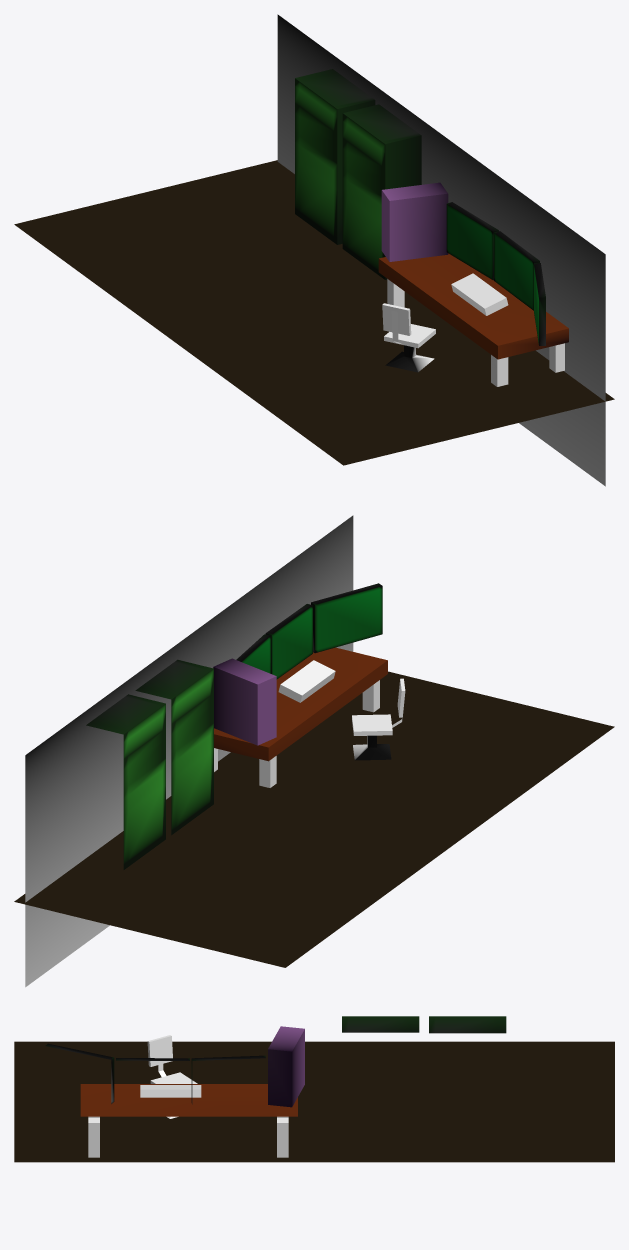
Rendered from ServerRoom.glb.
3 renders of one model, top to bottom at view 1: azimuth 30°, elevation 25°; view 2: azimuth 150°, elevation 25°; view 3: azimuth 270°, elevation 25°, orthographic. The views are drawn at different scales.
Parts seen in each view (by area): view 1: Cube, Plane, Cube.001, Cube.006, Cube.002, Cube.011, Cube.008, Cube.003, Cube.012, Cube.005, Cube.004; view 2: Cube, Plane, Cube.002, Cube.006, Cube.001, Cube.011, Cube.004, Cube.003, Cube.012, Cube.005, Cube.008; view 3: Cube, Cube.001, Cube.011, Cube.002, Cube.006, Cube.012, Cube.005, Cube.004, Cube.008.
Boxes of the visible parts, x1=… form: Cube: x1=14, y1=160, x2=614, y2=465; Plane: x1=277, y1=14, x2=605, y2=486; Cube.001: x1=378, y1=253, x2=568, y2=386; Cube.006: x1=342, y1=104, x2=421, y2=279; Cube.002: x1=295, y1=69, x2=375, y2=244; Cube.011: x1=381, y1=182, x2=448, y2=261; Cube.008: x1=446, y1=202, x2=498, y2=280; Cube.003: x1=494, y1=231, x2=539, y2=310; Cube.012: x1=382, y1=303, x2=435, y2=372; Cube.005: x1=451, y1=273, x2=508, y2=315; Cube.004: x1=534, y1=263, x2=545, y2=345; Cube: x1=14, y1=671, x2=614, y2=967; Plane: x1=25, y1=515, x2=353, y2=987; Cube.002: x1=86, y1=694, x2=165, y2=869; Cube.006: x1=135, y1=659, x2=213, y2=835; Cube.001: x1=214, y1=647, x2=387, y2=787; Cube.011: x1=213, y1=658, x2=276, y2=745; Cube.004: x1=311, y1=583, x2=382, y2=653; Cube.003: x1=265, y1=604, x2=312, y2=679; Cube.012: x1=352, y1=678, x2=405, y2=760; Cube.005: x1=278, y1=660, x2=335, y2=702; Cube.008: x1=236, y1=634, x2=270, y2=673; Cube: x1=14, y1=1041, x2=614, y2=1162; Cube.001: x1=80, y1=1084, x2=297, y2=1157; Cube.011: x1=268, y1=1026, x2=304, y2=1107; Cube.002: x1=429, y1=1016, x2=506, y2=1033; Cube.006: x1=342, y1=1016, x2=419, y2=1032; Cube.012: x1=147, y1=1035, x2=197, y2=1118; Cube.005: x1=140, y1=1085, x2=201, y2=1097; Cube.004: x1=45, y1=1043, x2=114, y2=1103; Cube.008: x1=191, y1=1055, x2=265, y2=1104.
Bounding box in the file's own units: 2.7 × 2.21 × 5.69.
